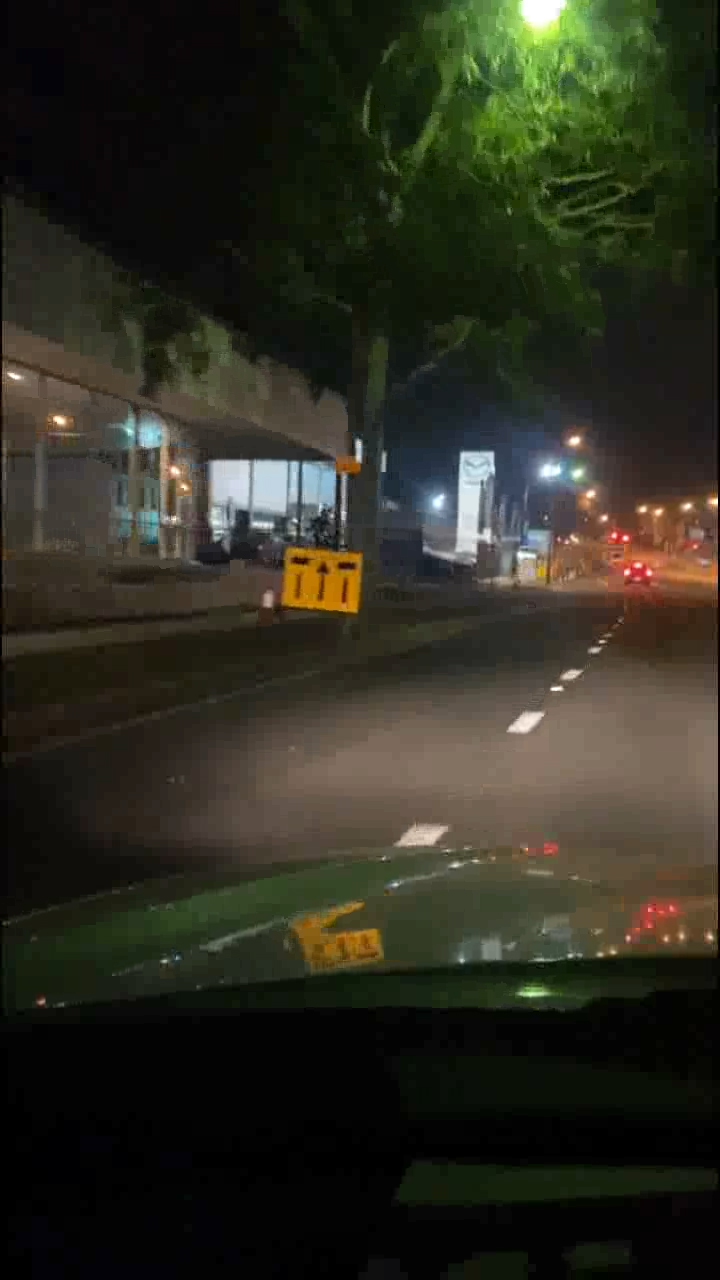road works sign board: (282, 547, 360, 611)
